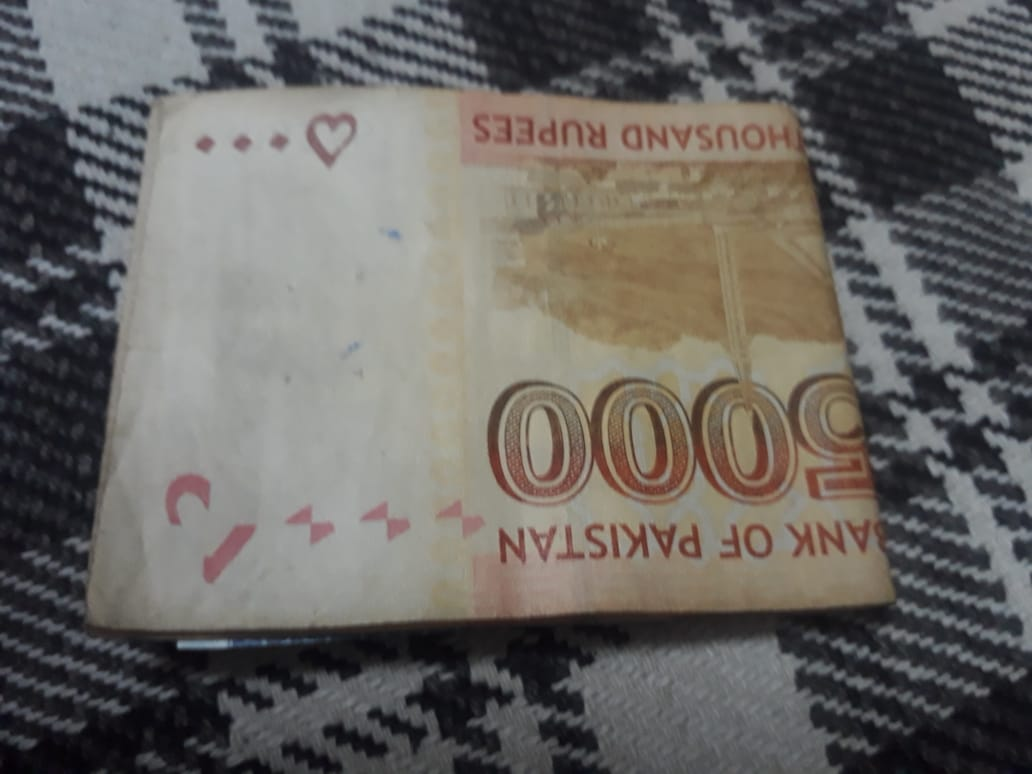5000 rupee: (83, 84, 880, 652)
